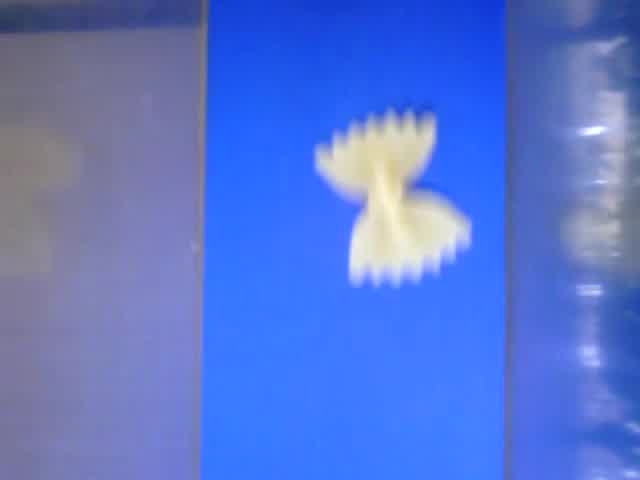farfalle: (311, 106, 472, 288)
